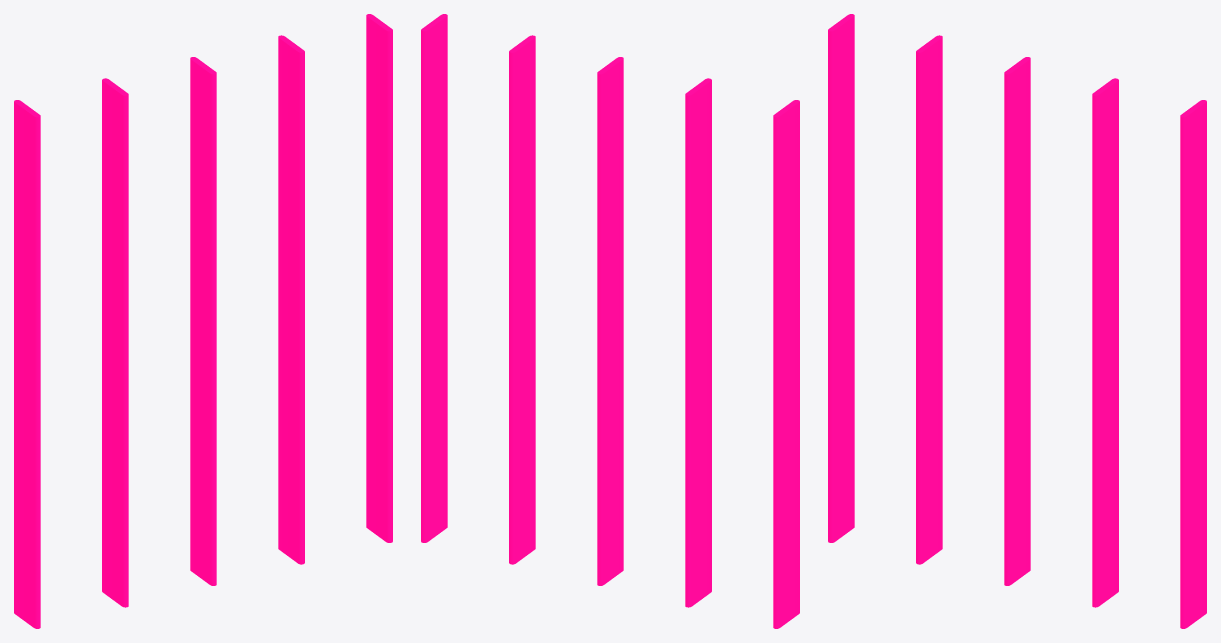
Rendered from SM_MOD_Laser_Door_01_EnergyGateLaser.fbx.
3 renders of one model, left to right at view 1: azimuth 30°, elevation 25°; view 2: azimuth 150°, elevation 25°; view 3: azimuth 330°, elevation 25°, orthographic.
Parts seen in each view (by area): view 1: SM_MOD_Laser_Door_01_EnergyGateLaser_LOD0; view 2: SM_MOD_Laser_Door_01_EnergyGateLaser_LOD0; view 3: SM_MOD_Laser_Door_01_EnergyGateLaser_LOD0.
Boxes of the visible parts, x1,y1,x2,y2 form: SM_MOD_Laser_Door_01_EnergyGateLaser_LOD0: (14, 14, 392, 628); SM_MOD_Laser_Door_01_EnergyGateLaser_LOD0: (421, 14, 799, 628); SM_MOD_Laser_Door_01_EnergyGateLaser_LOD0: (828, 14, 1206, 628).
Size of what is drawn, in the model's own units: 187 by 255 by 21.07.
